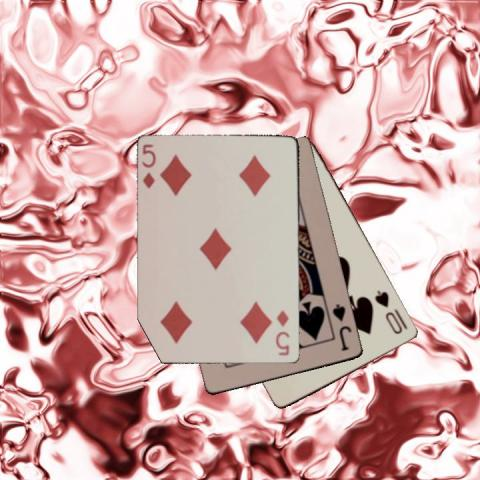10s: (372, 288, 405, 336)
5d: (273, 308, 292, 358), (140, 141, 158, 190)
Js: (330, 301, 354, 353)
